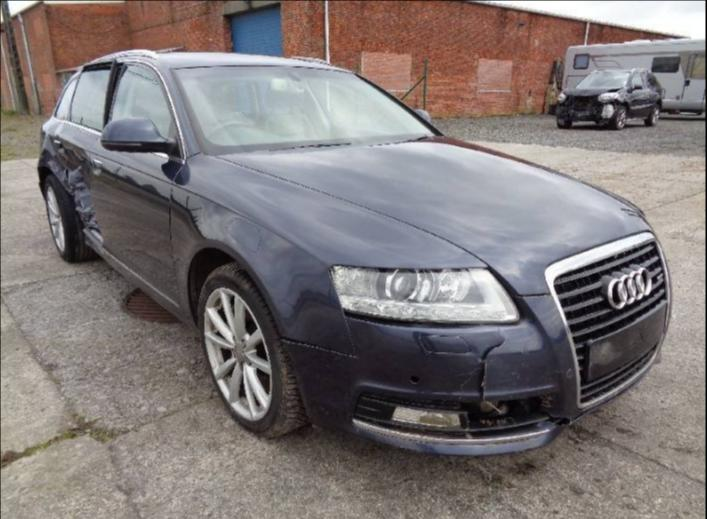Broken part: (283, 295, 581, 454), (37, 121, 103, 246), (67, 57, 124, 132), (391, 405, 466, 428)
Dent: (37, 139, 101, 240), (187, 194, 238, 242)
Missing part: (410, 375, 418, 382)
Scratch: (450, 364, 481, 401), (508, 341, 530, 381), (536, 392, 557, 409), (552, 365, 574, 379)
